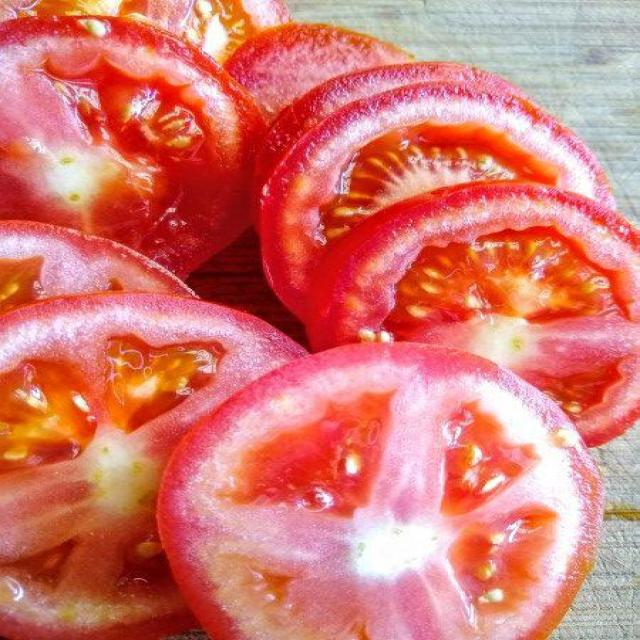Tomato: (159, 337, 602, 639), (300, 187, 640, 433), (0, 7, 247, 256)
